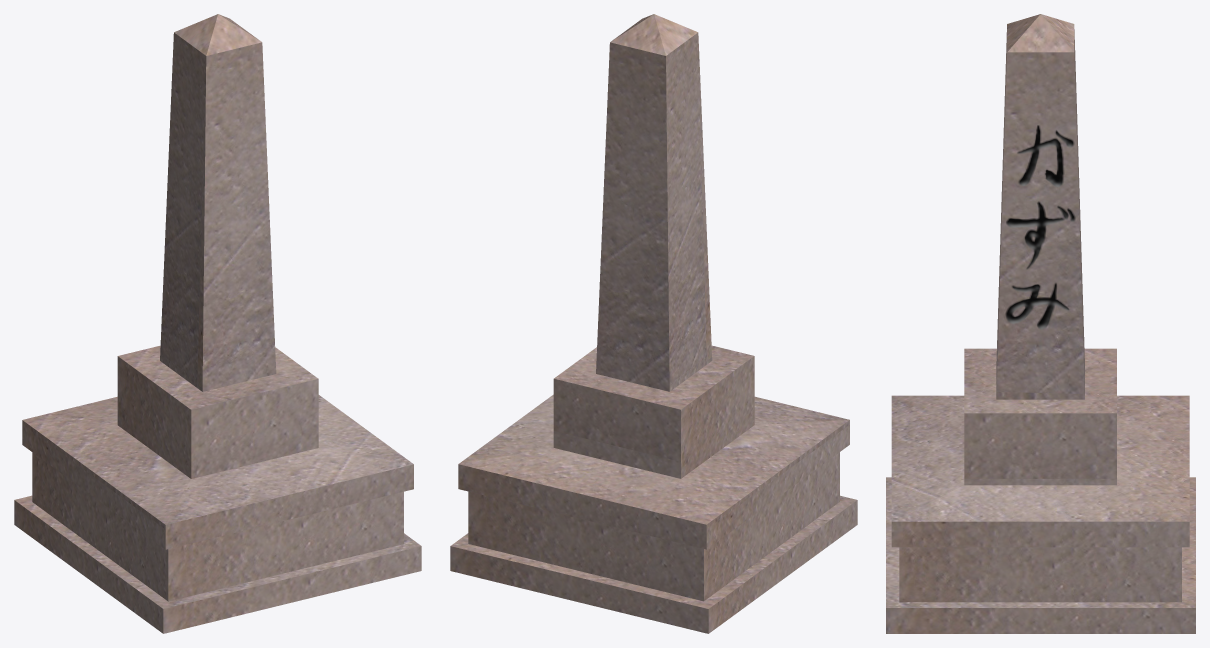
The model's file is checkpoint_crystal.FBX.
3 views of the same model, side by side, from view 1: azimuth 30°, elevation 25°; view 2: azimuth 150°, elevation 25°; view 3: azimuth 270°, elevation 25° (orthographic). The views are drawn at different scales.
Visible parts, largest first — view 1: DEFAULT; view 2: DEFAULT; view 3: DEFAULT.
Part boxes in pixels (bbox=[...]): DEFAULT: bbox=[14, 14, 421, 633]; DEFAULT: bbox=[450, 14, 857, 633]; DEFAULT: bbox=[886, 14, 1195, 633].
Size of the model in its own units: 1.5 by 2.97 by 1.5.
1 material, 1 textured.
